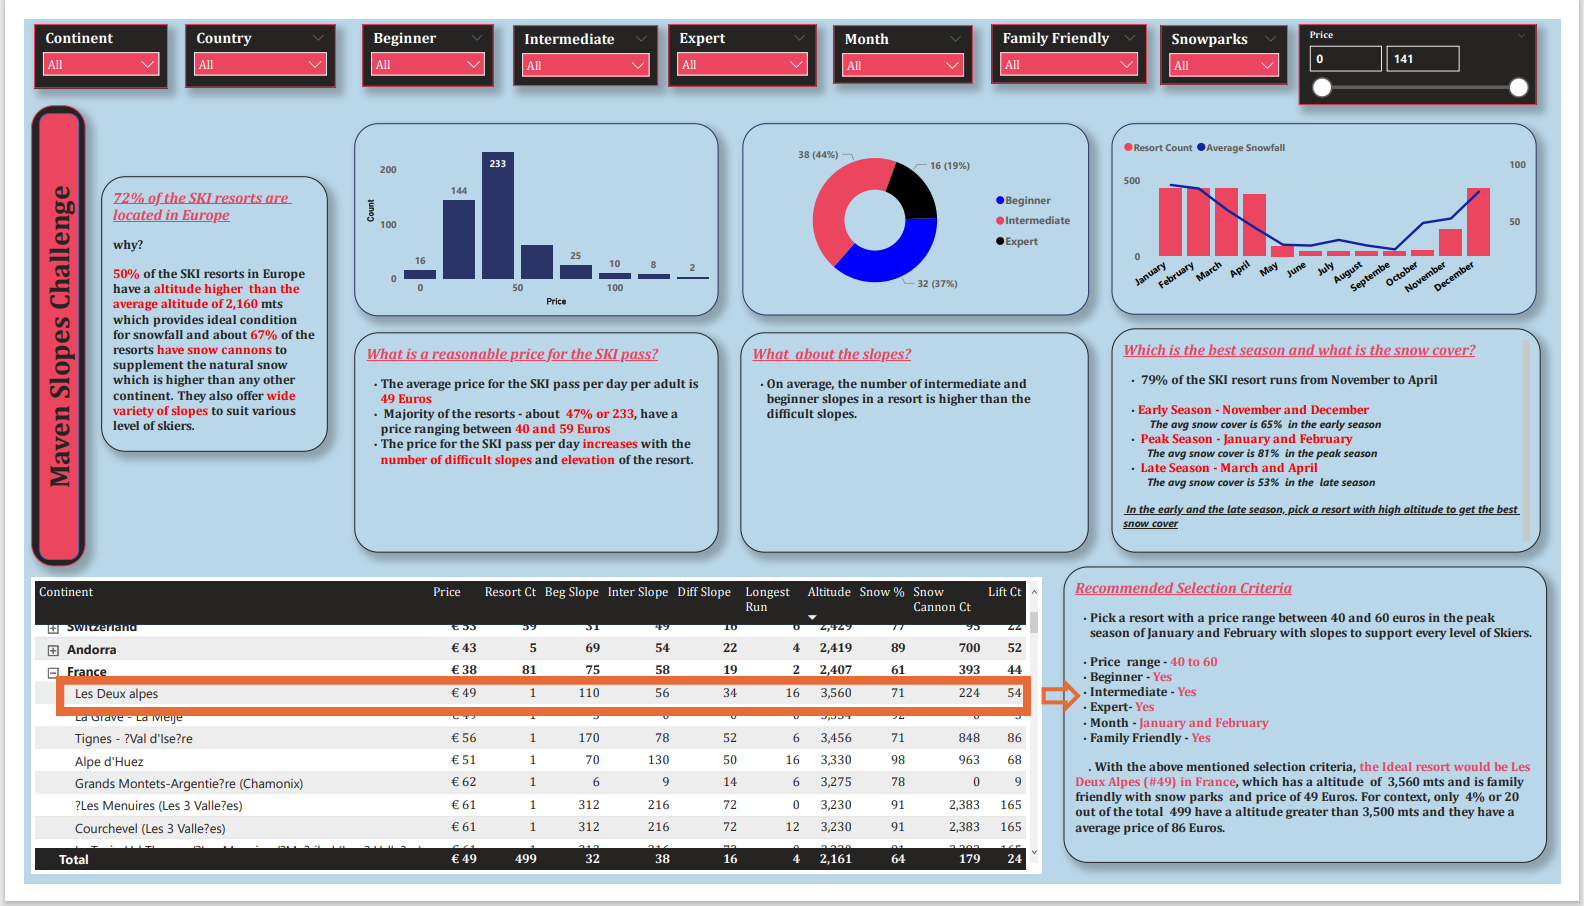

Layout of this report page (visuals, bound fields, positions):
{"tool":"powerbi","page":{"name":"Maven Slopes Challenge","canvas":[1920,1080],"ordinal":0},"visuals":[{"type":"columnChart","fields":{"Category":["resorts.Price (bins)"],"Y":["CountNonNull(resorts.Price)"]},"box":[412.5,130,455,241.2],"z":0},{"type":"pivotTable","fields":{"Rows":["resorts.Continent","resorts.Country","resorts.Resort"],"Values":["resorts.avg_price","resorts.Resort_dist_ct","resorts.avg_beg_slope","resorts.avg_inter_slope","resorts.avg_diff_slope","resorts.avg_longest_run","resorts.avg_altitude","Resort_season_snow.avg_snow","resorts.avg_snow_cannons","resorts.avg_lift"]},"box":[8.6,697.1,1262.9,370],"z":1000},{"type":"slicer","fields":{"Values":["resorts.Country"]},"box":[201.8,6.5,187.6,78.9],"z":2000},{"type":"slicer","fields":{"Values":["resorts.Continent"]},"box":[12.9,6.5,166.9,80.2],"z":3000},{"type":"slicer","fields":{"Values":["resorts.Beginner"]},"box":[423.1,6.5,164.3,77.6],"z":4000},{"type":"slicer","fields":{"Values":["resorts.Intermediate"]},"box":[610.7,7.8,181.1,76.3],"z":5000},{"type":"slicer","fields":{"Values":["resorts.Expert"]},"box":[804.7,6.5,185,77.6],"z":6000},{"type":"slicer","fields":{"Values":["resorts.Child friendly"]},"box":[1208.6,5.7,194.3,74.3],"z":7000},{"type":"textbox","box":[412.5,391.2,455,275],"z":9000},{"type":"textbox","box":[96.2,196.2,282.5,343.8],"z":10000},{"type":"slicer","fields":{"Values":["resorts.Price"]},"box":[1592.9,5.7,297.1,101.4],"z":11000},{"type":"lineStackedColumnComboChart","fields":{"Y":["CountNonNull(Resort_season_snow.resorts_ID)"],"Category":["Resort_season_snow.SES_NAME"],"Y2":["Avg(Resort_season_snow.snow)"]},"box":[1358.8,130,531.2,238.8],"z":12000},{"type":"slicer","fields":{"Values":["Resort_season_snow.SES_NAME"]},"box":[1011.2,7.5,173.8,72.5],"z":13000},{"type":"textbox","box":[1358.8,386.2,536.2,280],"z":14000},{"type":"slicer","fields":{"Values":["resorts.Snowparks"]},"box":[1420,7.1,158.6,74.3],"z":15000},{"type":"donutChart","fields":{"Y":["resorts.avg_beg_slope","resorts.avg_inter_slope","resorts.avg_diff_slope"]},"box":[897.5,130,432.5,240],"z":16000},{"type":"textbox","box":[895,391.2,435,275],"z":17000},{"type":"textbox","box":[1298.8,683.8,603.8,370],"z":18000},{"type":"shape","box":[8.8,107.5,67.5,576.2],"z":19000}]}

Visuals, with their boxes in screenshot pixels (x1, y1, x2, y2), scaled from the page's 1920x1080 canvas onto the 1584x906 screenshot:
columnChart - resorts.Price (bins) x CountNonNull(resorts.Price): crop(340, 109, 716, 311)
pivotTable - resorts.Continent x resorts.Country: crop(7, 585, 1049, 895)
slicer - resorts.Country: crop(166, 5, 321, 72)
slicer - resorts.Continent: crop(11, 5, 148, 73)
slicer - resorts.Beginner: crop(349, 5, 485, 71)
slicer - resorts.Intermediate: crop(504, 7, 653, 71)
slicer - resorts.Expert: crop(664, 5, 817, 71)
slicer - resorts.Child friendly: crop(997, 5, 1157, 67)
textbox: crop(340, 328, 716, 559)
textbox: crop(79, 165, 312, 453)
slicer - resorts.Price: crop(1314, 5, 1559, 90)
lineStackedColumnComboChart - CountNonNull(Resort_season_snow.resorts_ID) x Resort_season_snow.SES_NAME: crop(1121, 109, 1559, 309)
slicer - Resort_season_snow.SES_NAME: crop(834, 6, 978, 67)
textbox: crop(1121, 324, 1563, 559)
slicer - resorts.Snowparks: crop(1172, 6, 1302, 68)
donutChart - resorts.avg_beg_slope x resorts.avg_inter_slope: crop(740, 109, 1097, 310)
textbox: crop(738, 328, 1097, 559)
textbox: crop(1072, 574, 1570, 884)
shape: crop(7, 90, 63, 574)
